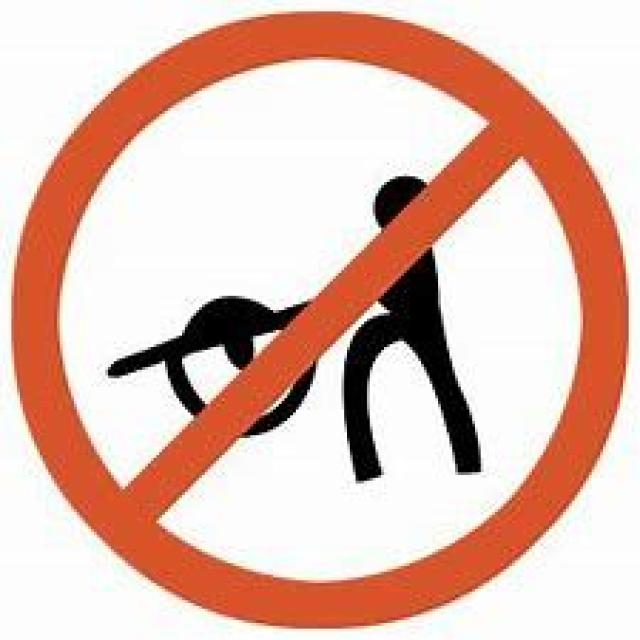railway_crossing: (9, 9, 628, 628)
